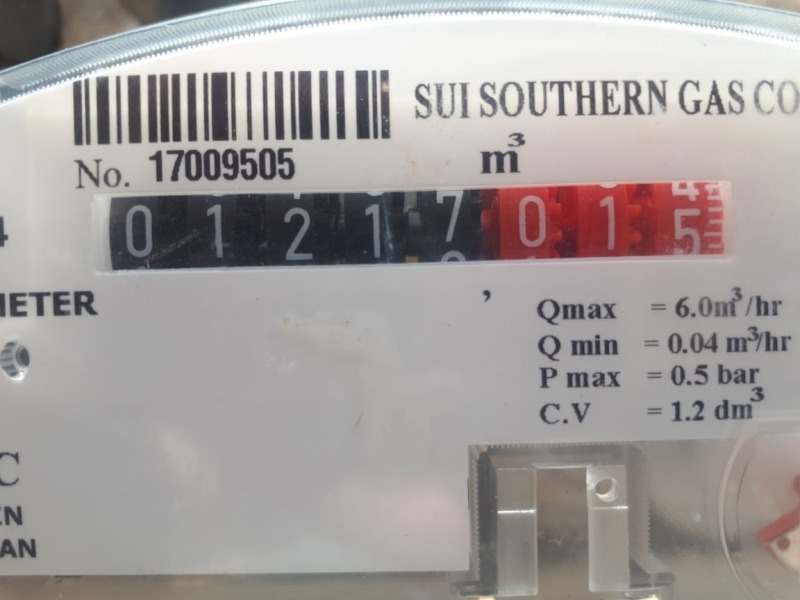ssgc: (96, 180, 731, 266)
